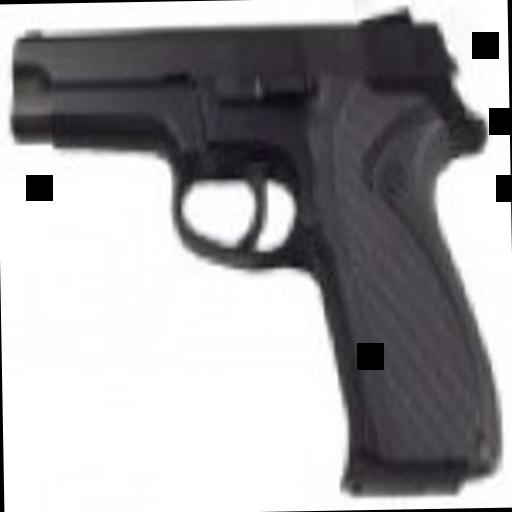Handgun: (6, 12, 502, 512)
